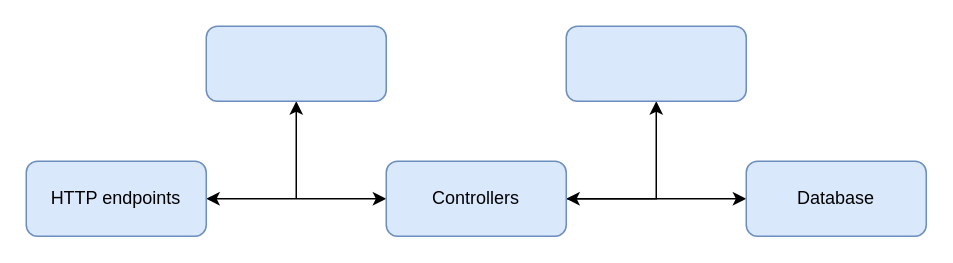
This 953x263 diagram has some shape labels left out. Each missing label, with the box of its shape:
Middlewares: (205, 25, 386, 101)
Sequelize: (565, 25, 746, 101)
